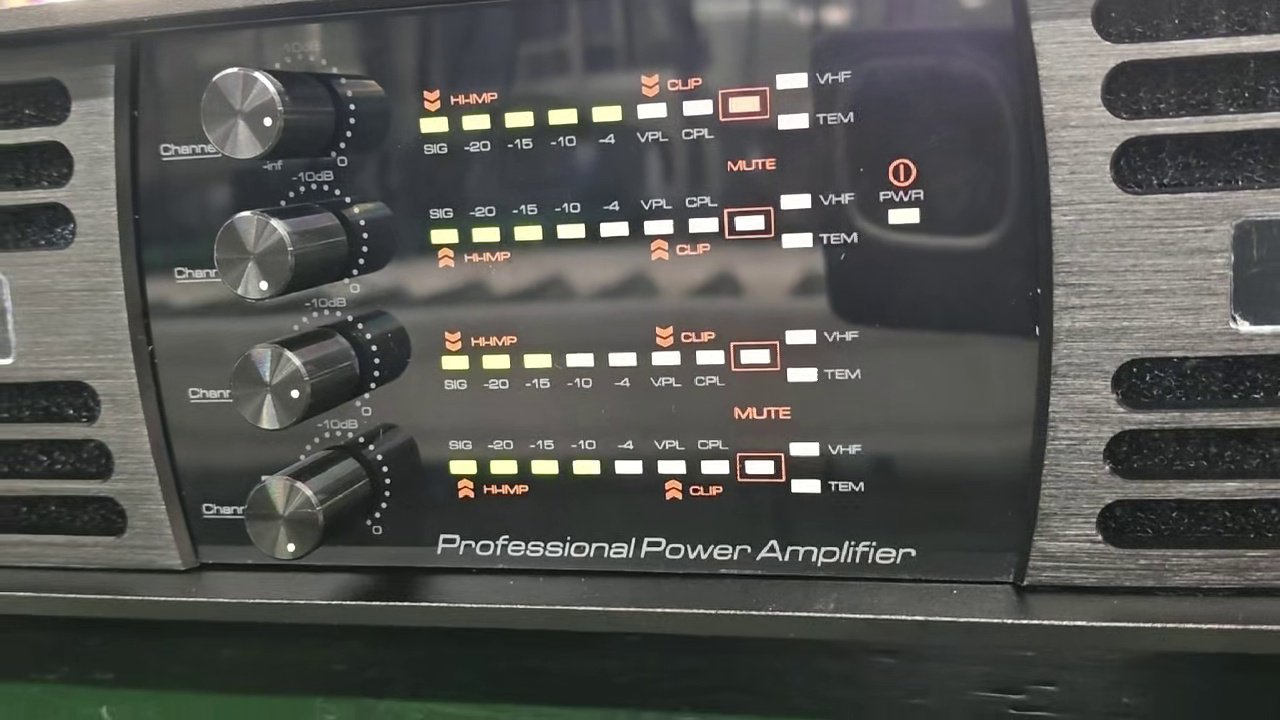FP_CPL: (683, 188, 724, 242), (679, 93, 716, 150), (692, 431, 733, 482), (693, 343, 729, 395)
FP_PWR: (874, 184, 927, 231)
FP_PWR_area: (873, 152, 931, 233)
FP_SIG_area: (414, 62, 866, 157), (421, 183, 863, 271), (443, 425, 876, 506), (439, 318, 870, 393)
FP_VPL: (632, 99, 676, 154), (639, 189, 678, 240), (652, 430, 691, 480), (646, 345, 685, 394)
